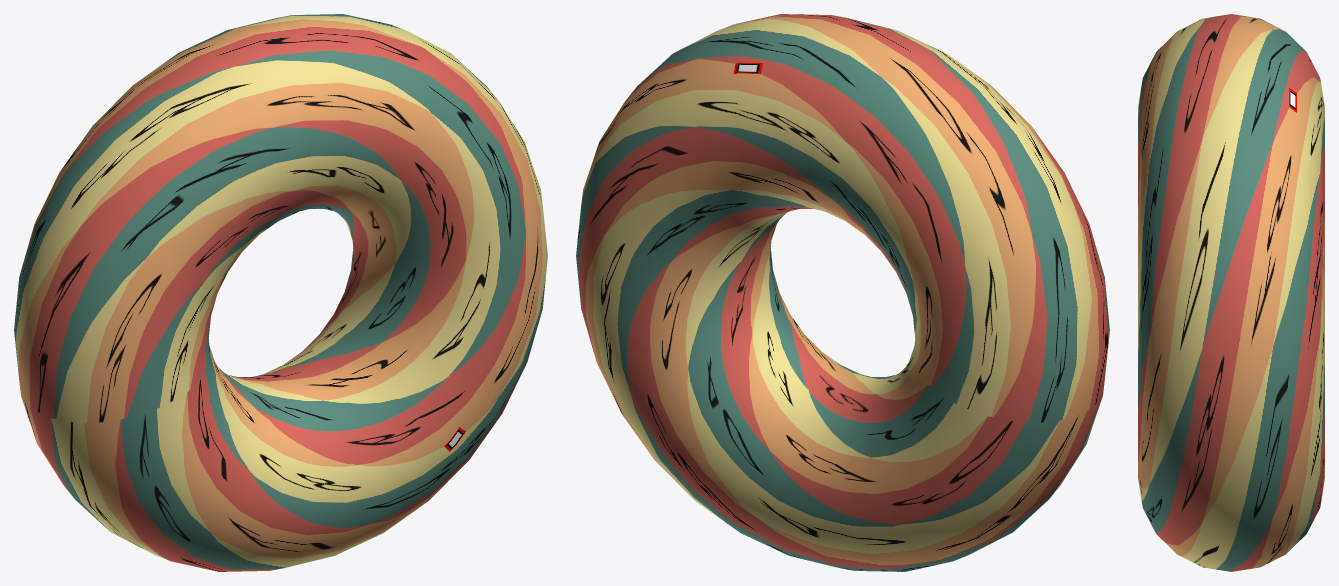
File: uv_checkerboard_res_1024_iter_767_cat_map.glb
The picture shows the model from 3 angles, left to right: view 1: azimuth 30°, elevation 25°; view 2: azimuth 150°, elevation 25°; view 3: azimuth 270°, elevation 25°; orthographic projection. The views are drawn at different scales.
Parts seen in each view (by area): view 1: Node; view 2: Node; view 3: Node.
Boxes of the visible parts, <box> form: Node: <box>14,14,547,571</box>; Node: <box>576,14,1109,571</box>; Node: <box>1138,14,1324,571</box>.
Size of the model in its own units: 3 by 2.98 by 1.
1 material, 1 textured.
